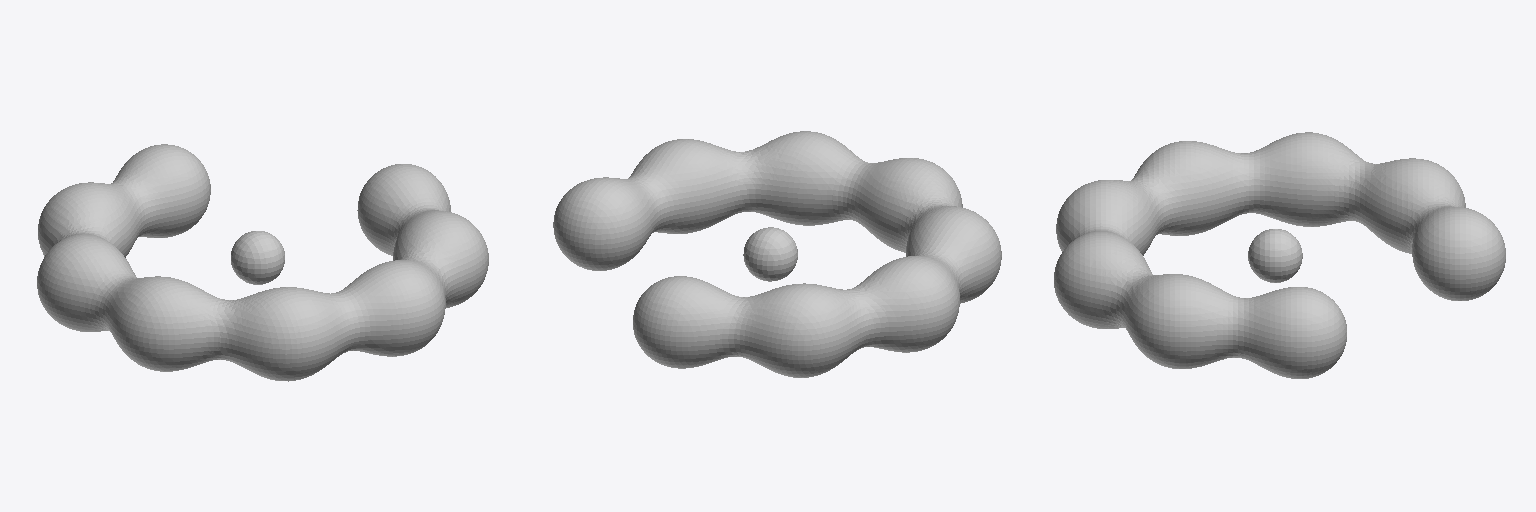
File: IngredientC_1_1.obj
3 renders of one model, left to right at view 1: azimuth 30°, elevation 25°; view 2: azimuth 150°, elevation 25°; view 3: azimuth 270°, elevation 25°, orthographic.
Size of the model in its own units: 432 by 89.08 by 428.